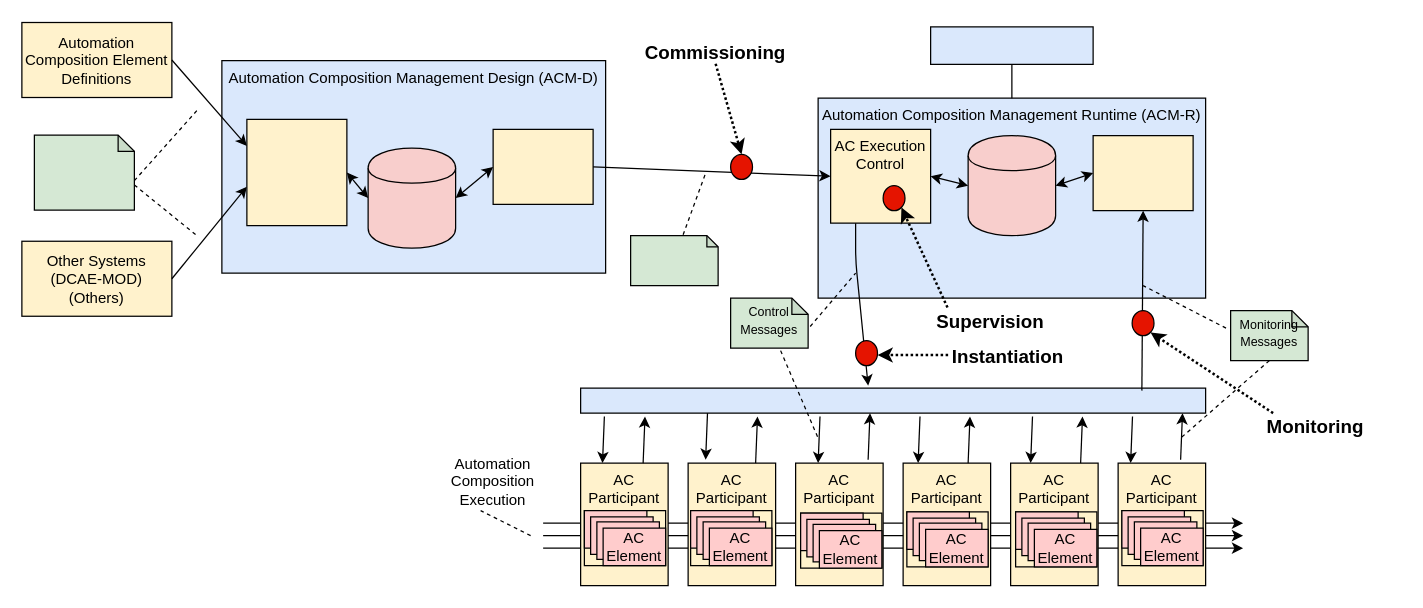
Image size: 1423x608. Some labels were removed from this diagram. Here are the shapes that lost their labels. From the top down, the centre of each, then its label:
At (x=1011, y=45): "ACM Client (ACM-C)".
At (x=83, y=172): "Metadata".
At (x=296, y=172): "Automation Composition Element Metadata Design".
At (x=542, y=166): "Automation Composition Assembling".
At (x=1011, y=185): "Run Time Inventory".
At (x=1142, y=172): "AC Execution Monitoring".
At (x=411, y=197): "Design Time Catalogue".
At (x=673, y=260): "AC Definition (TOSCA)".
At (x=892, y=400): "Kafka".
